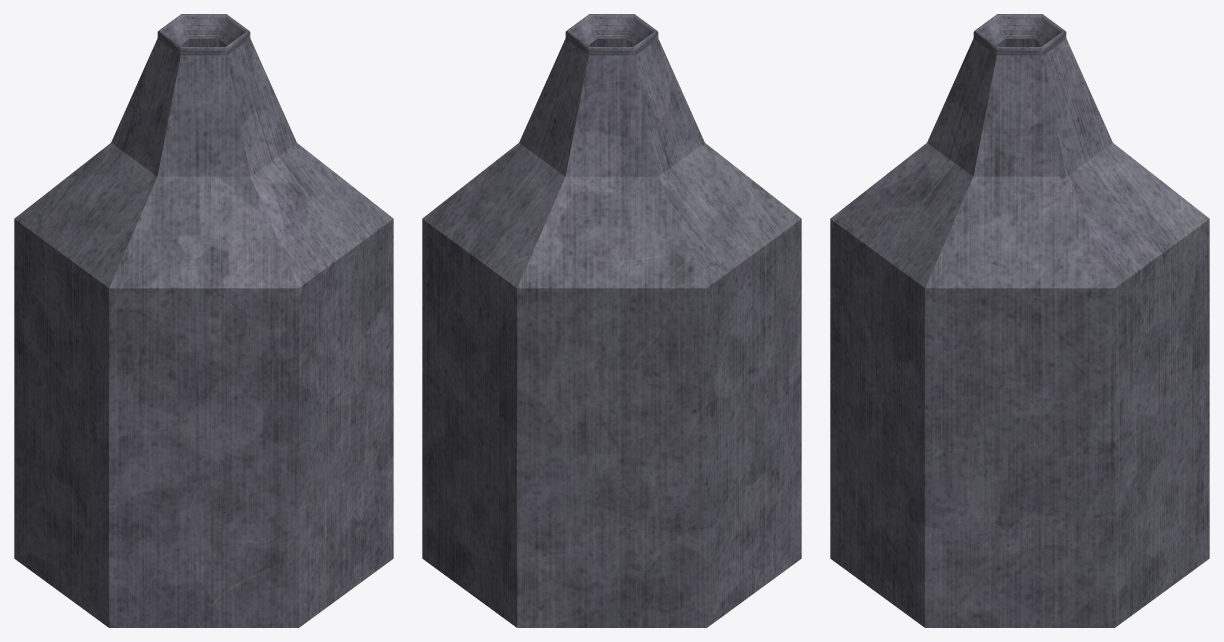
Rendered from bottle1_open.fbx.
The picture shows the model from 3 angles, left to right: view 1: azimuth 30°, elevation 25°; view 2: azimuth 150°, elevation 25°; view 3: azimuth 270°, elevation 25°; orthographic projection.
Parts seen in each view (by area): view 1: Cylinder.008; view 2: Cylinder.008; view 3: Cylinder.008.
Boxes of the visible parts, x1,y1,x2,y2 form: Cylinder.008: [14, 14, 393, 627]; Cylinder.008: [422, 14, 801, 627]; Cylinder.008: [830, 14, 1209, 627].
Size of the model in its own units: 35.04 by 62.08 by 40.46.
2 materials, 2 textured.
